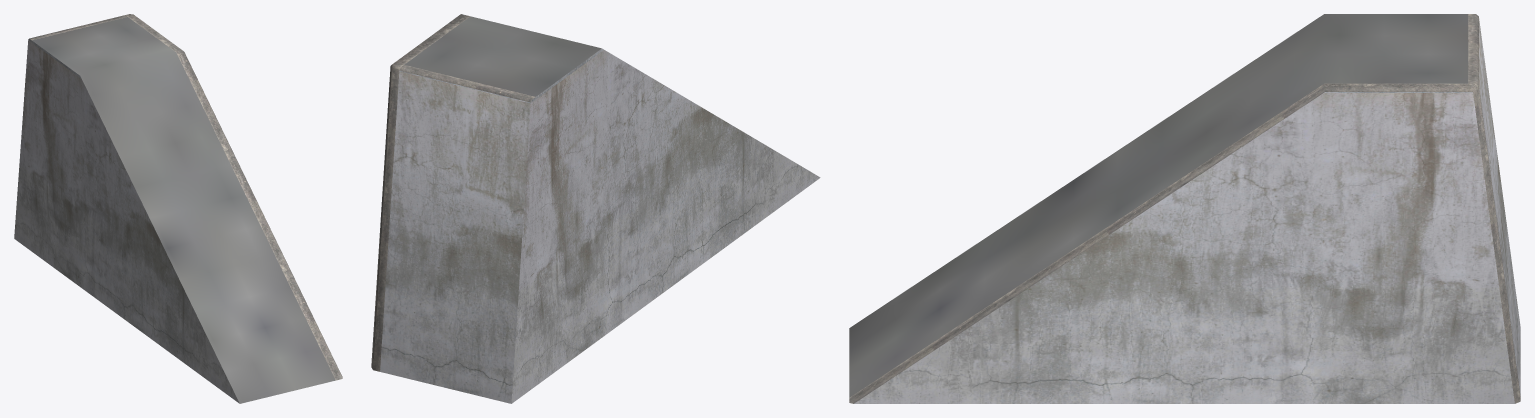
Rendered from JpHouseJ_StoneWall_slope12l.fbx.
3 views of the same model, side by side, from view 1: azimuth 30°, elevation 25°; view 2: azimuth 150°, elevation 25°; view 3: azimuth 270°, elevation 25° (orthographic). The views are drawn at different scales.
Visible parts, largest first — view 1: JpHouseJ_StoneWall_slope12l; view 2: JpHouseJ_StoneWall_slope12l; view 3: JpHouseJ_StoneWall_slope12l.
Boxes of the visible parts, box(x1,y1,x2,y2) form: JpHouseJ_StoneWall_slope12l: box(14, 14, 342, 403); JpHouseJ_StoneWall_slope12l: box(371, 14, 820, 403); JpHouseJ_StoneWall_slope12l: box(849, 14, 1520, 403).
Size of the model in its own units: 2.11 by 4.08 by 7.9.
